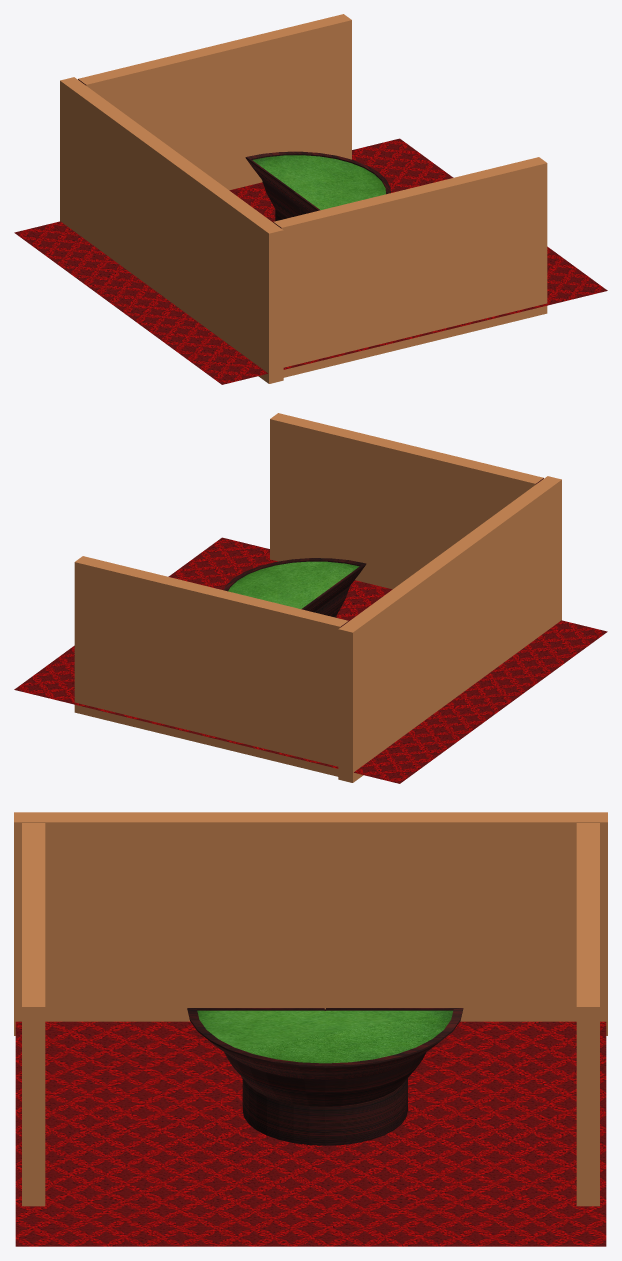
The model's file is BlackJack Room.fbx.
The picture shows the model from 3 angles, top to bottom: view 1: azimuth 30°, elevation 25°; view 2: azimuth 150°, elevation 25°; view 3: azimuth 270°, elevation 25°; orthographic projection. The views are drawn at different scales.
Parts seen in each view (by area): view 1: LeftWall, BackWall, RightWall, Floor, Table; view 2: RightWall, BackWall, LeftWall, Floor, Table; view 3: BackWall, Floor, Table, LeftWall, RightWall.
Boxes of the visible parts, bbox=[...] form: LeftWall: bbox=[273, 157, 547, 377]; BackWall: bbox=[60, 77, 283, 383]; RightWall: bbox=[78, 14, 351, 190]; Floor: bbox=[14, 138, 607, 384]; Table: bbox=[245, 151, 390, 221]; RightWall: bbox=[74, 556, 348, 776]; BackWall: bbox=[338, 476, 561, 782]; LeftWall: bbox=[270, 413, 543, 589]; Floor: bbox=[14, 537, 607, 783]; Table: bbox=[223, 558, 366, 617]; BackWall: bbox=[14, 812, 607, 1035]; Floor: bbox=[15, 1021, 606, 1246]; Table: bbox=[187, 1008, 463, 1145]; LeftWall: bbox=[22, 823, 45, 1206]; RightWall: bbox=[576, 823, 599, 1206].
Bounding box in the file's own units: 27.37 × 10.2 × 25.7.
